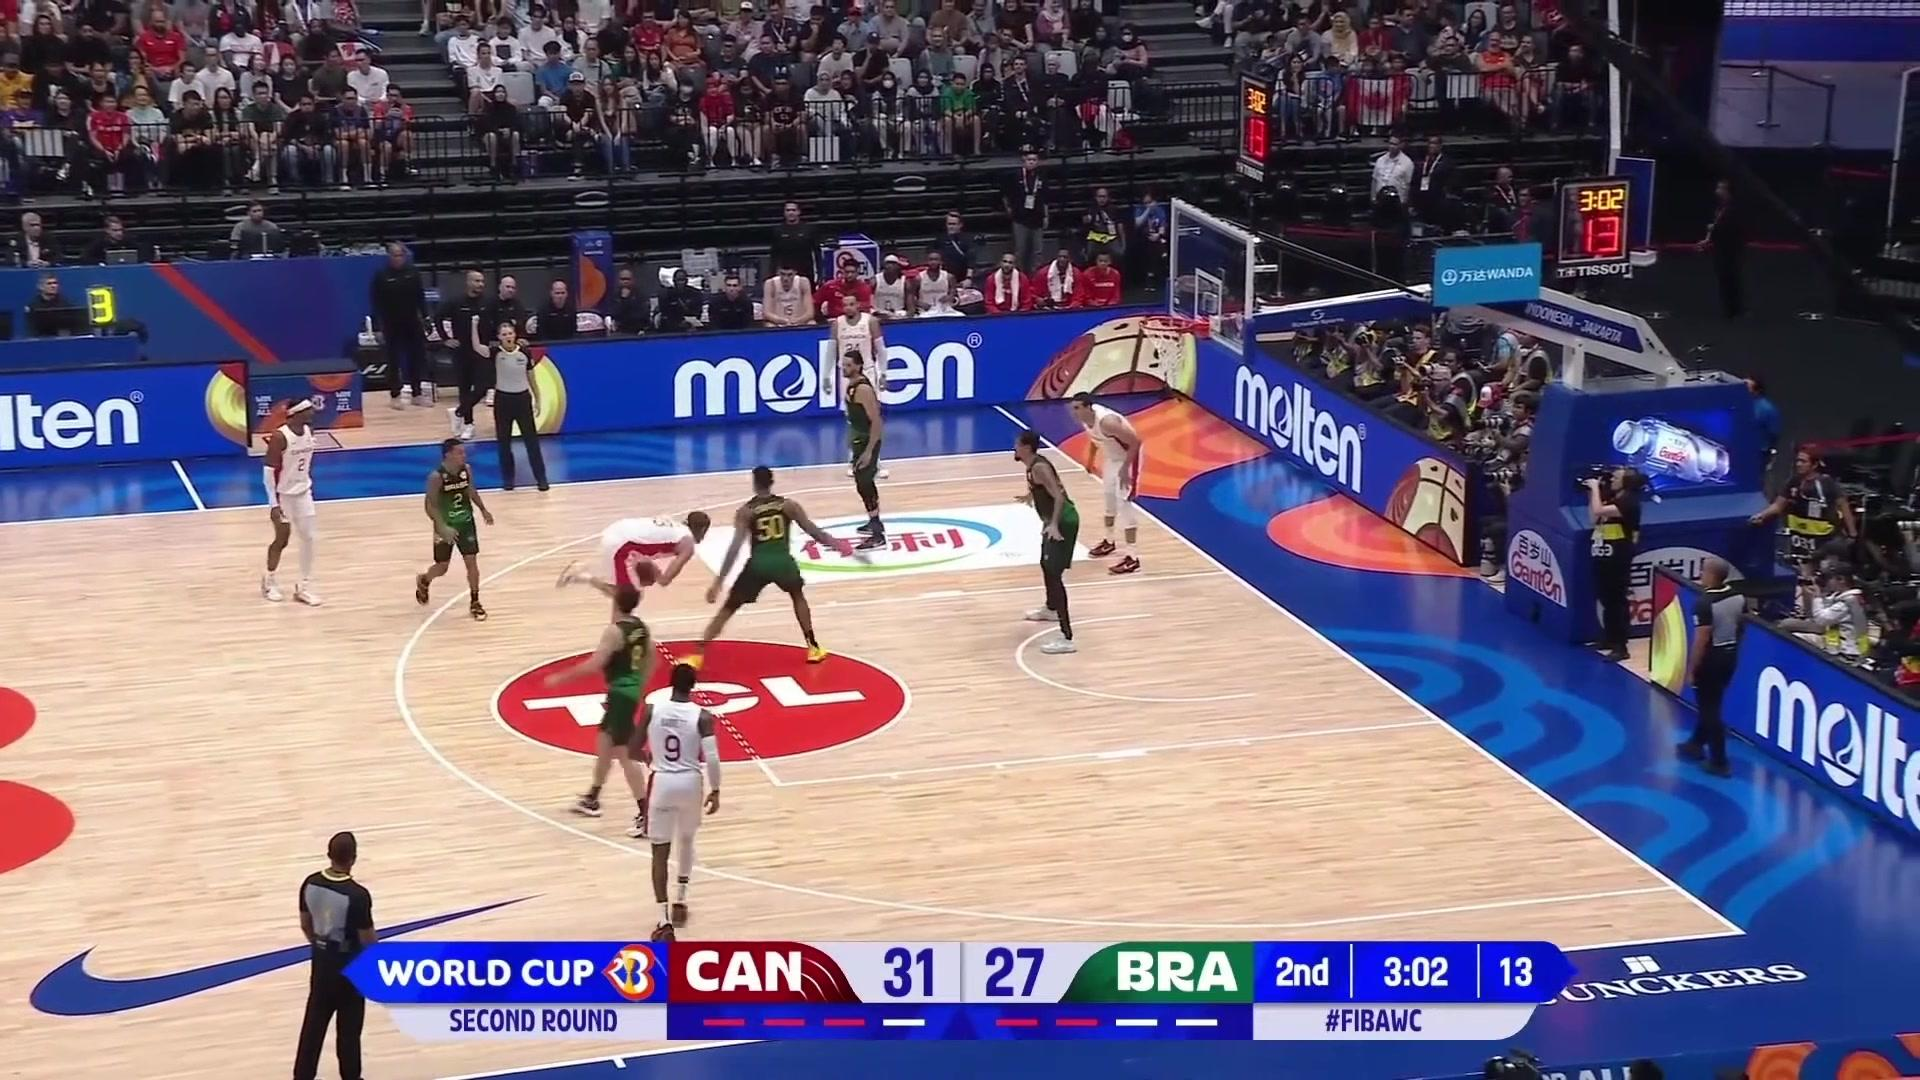foul: (550, 454, 833, 667)
